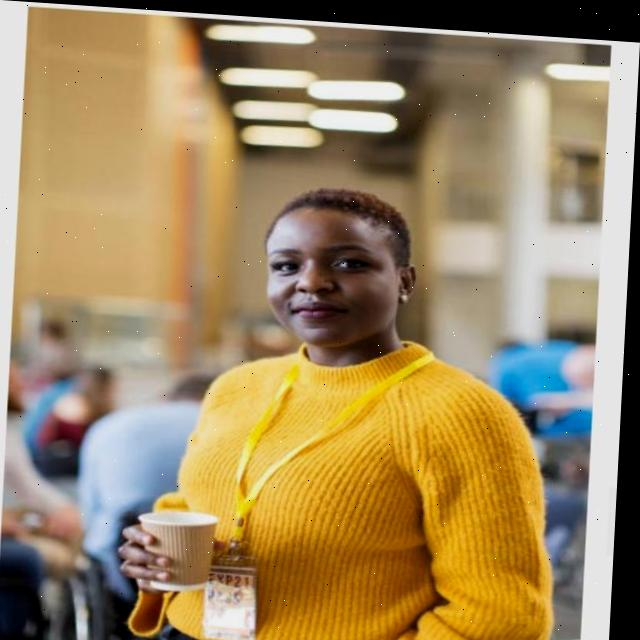id_card: (199, 338, 408, 640)
